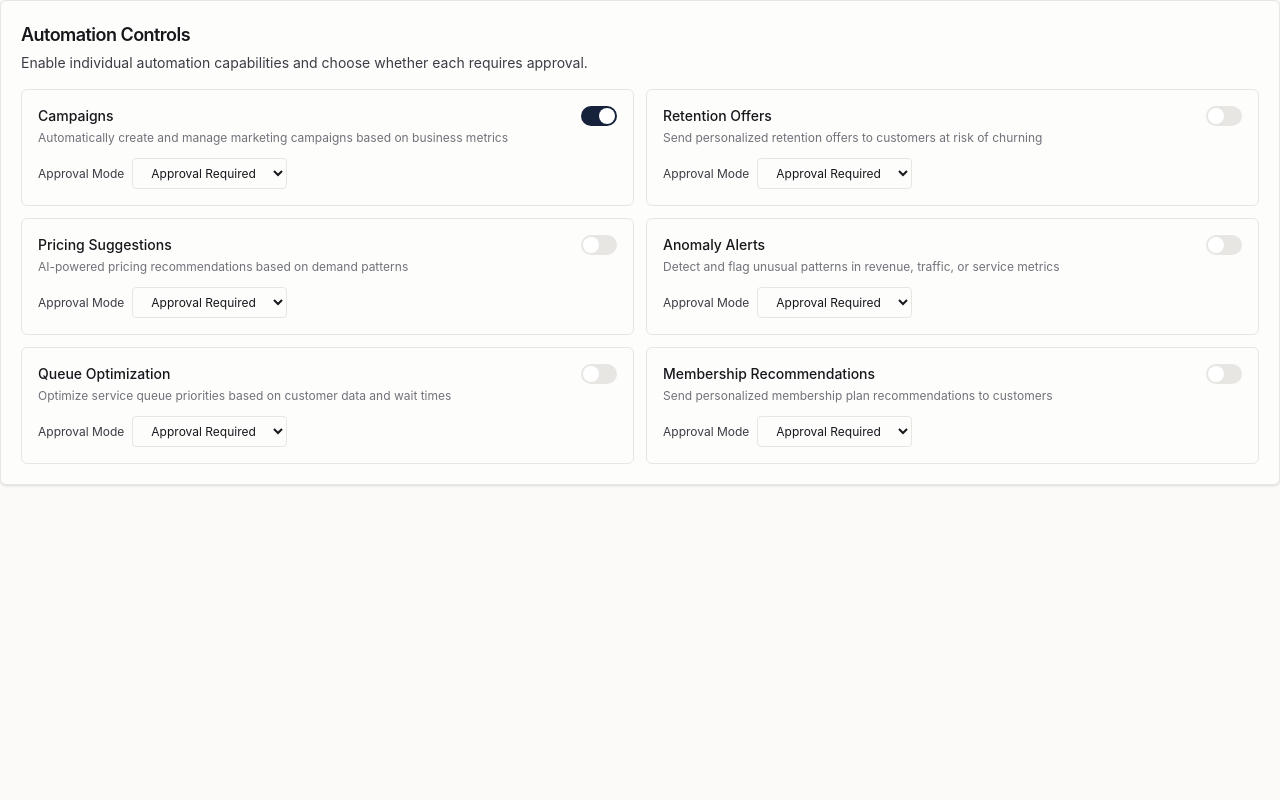
Test: AutomationControlsSection › should dismiss dialog without changing mode on cancel
This screenshot has width=1280, height=800.
// Trigger the dialog
Select "Autonomous" in the dropdown with test id "approval-mode-campaigns" at x=210, y=174, box [132,158,287,189]
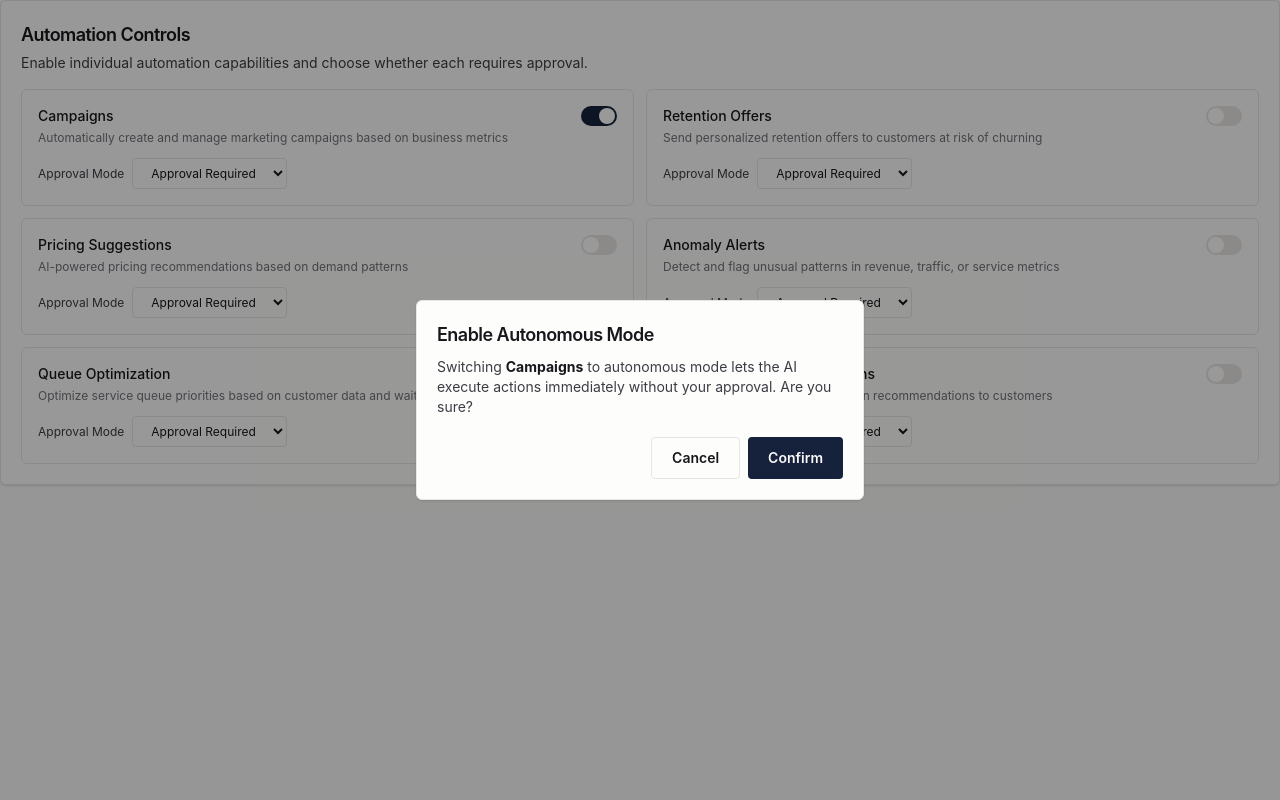
// Click cancel
Click the button "Cancel".
click(696, 458)  # box [651,437,740,479]
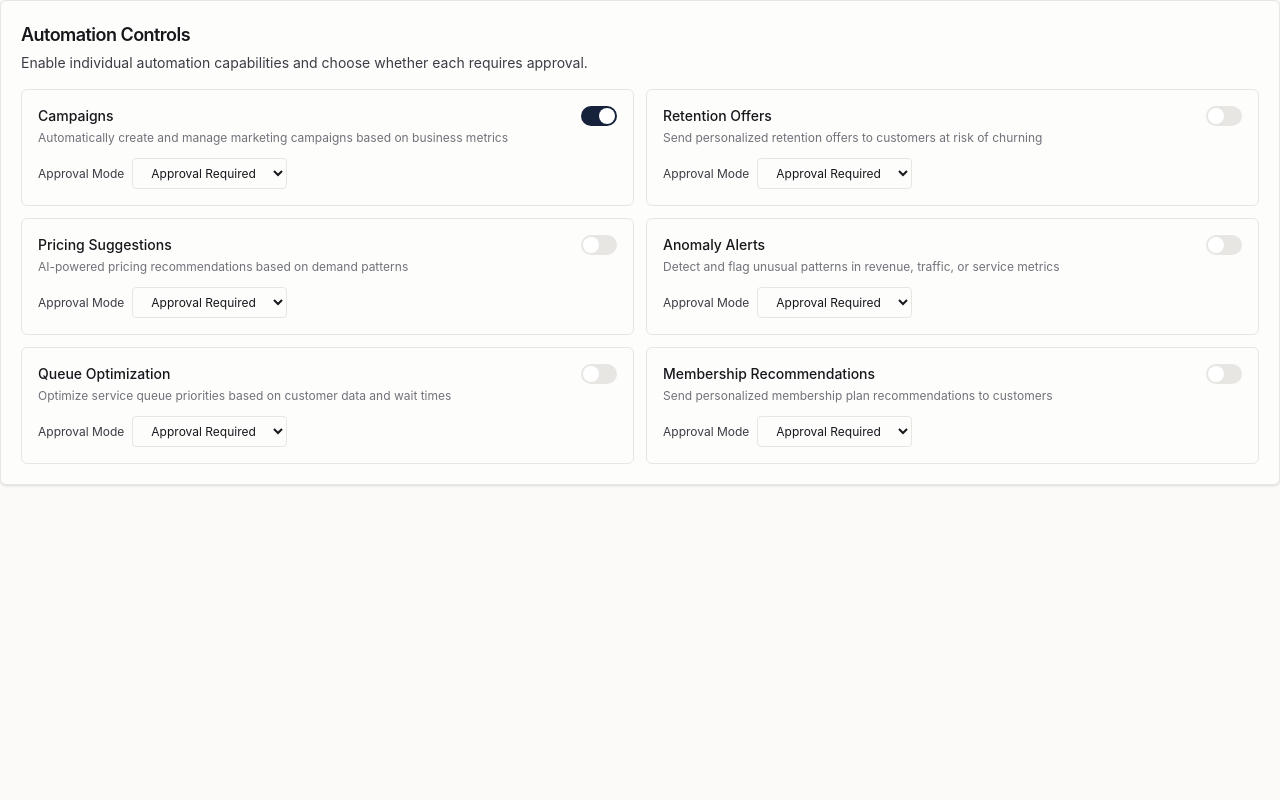
Expected: the dialog with test id "autonomous-confirm-dialog" is gone
